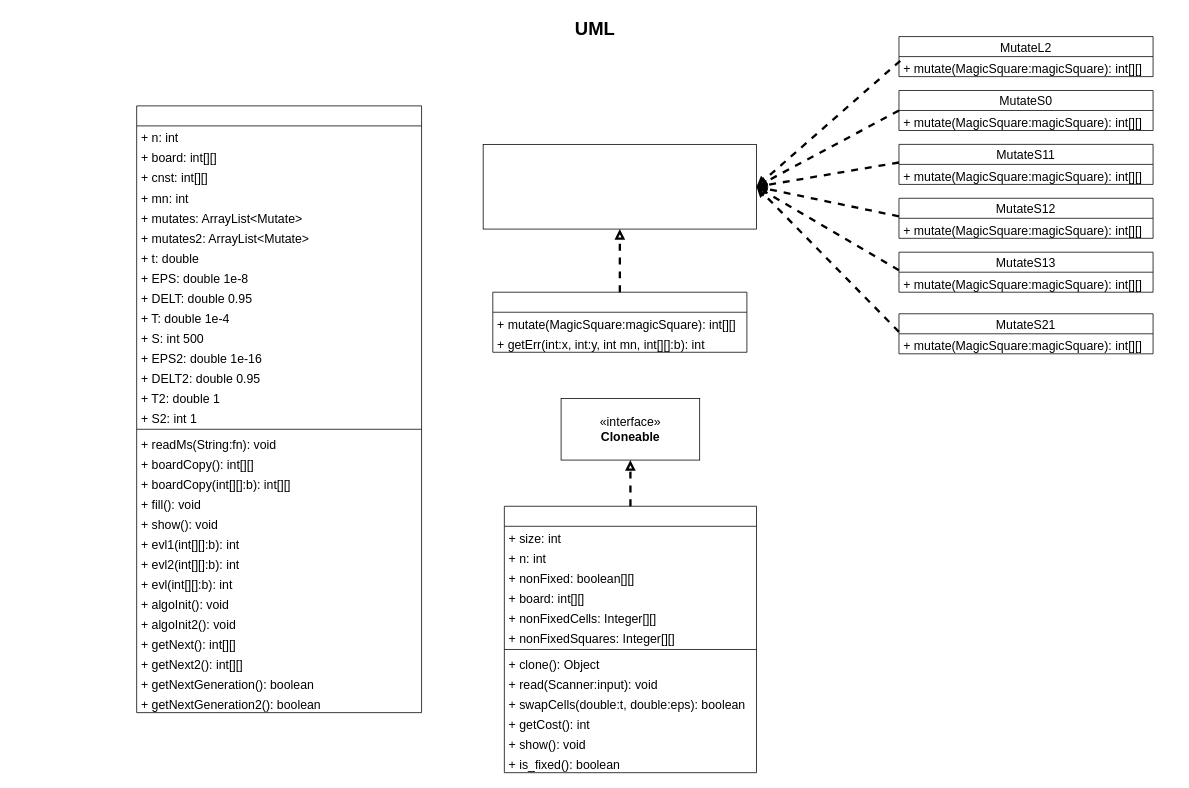
This 1189x788 diagram has some shape labels left out. Here are the shapes that lost their labels. From the top down, the box of each, then its label:
(482, 144, 757, 229): <<Interface>> Mutate + mutate(MagicSquare:magicSquare): int[][]
(492, 291, 747, 352): MutateL1
(136, 105, 422, 713): Magic Square
(504, 506, 757, 773): Sudoku
